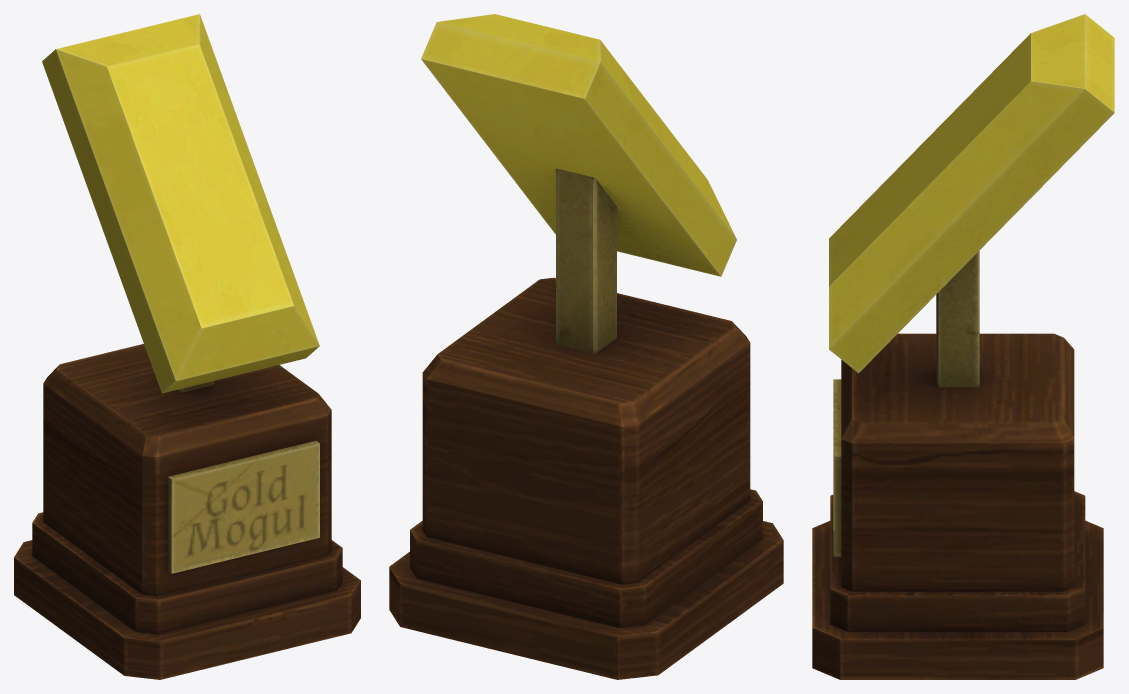
The model's file is Trophy_GoldMogul.glb.
3 views of the same model, side by side, from view 1: azimuth 30°, elevation 25°; view 2: azimuth 150°, elevation 25°; view 3: azimuth 270°, elevation 25° (orthographic). The views are drawn at different scales.
Parts seen in each view (by area): view 1: Trophy_GoldMogul; view 2: Trophy_GoldMogul; view 3: Trophy_GoldMogul.
Part boxes in pixels (box(x1,y1,x2,y2)): Trophy_GoldMogul: box(14, 14, 360, 679); Trophy_GoldMogul: box(389, 14, 783, 679); Trophy_GoldMogul: box(812, 14, 1114, 679).
Size of the model in its own units: 0.3151 by 0.6763 by 0.3271.
Materials: 1 (1 with a texture image).
